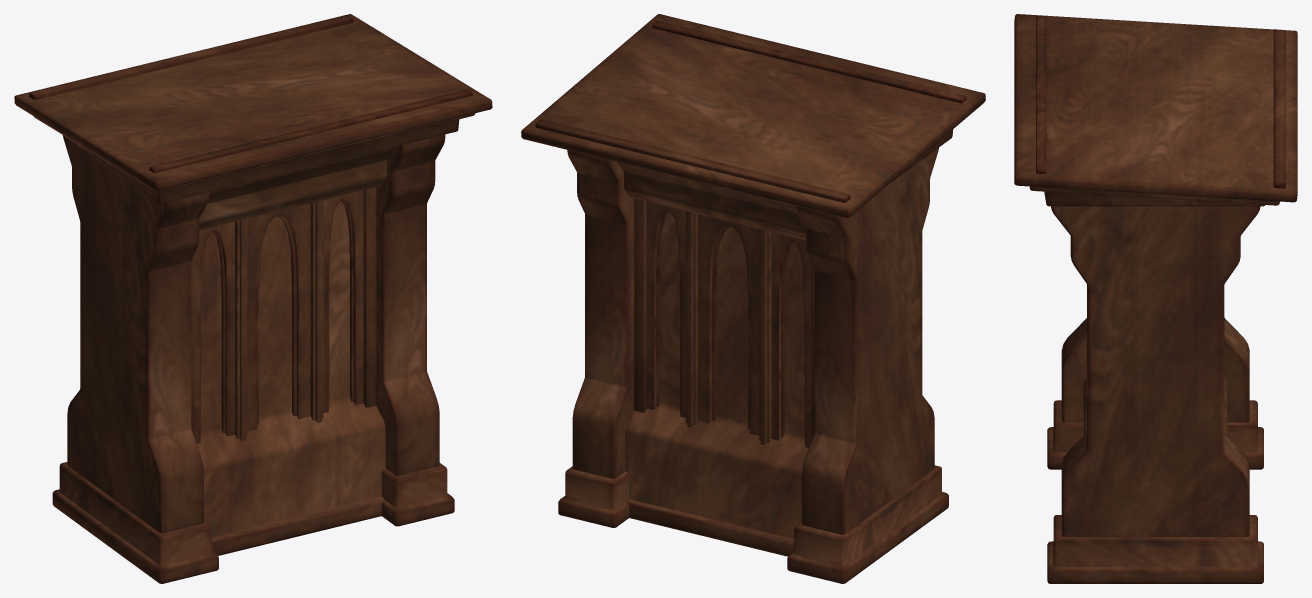
Rendered from Lectern_A.fbx.
3 renders of one model, left to right at view 1: azimuth 30°, elevation 25°; view 2: azimuth 150°, elevation 25°; view 3: azimuth 270°, elevation 25°, orthographic. The views are drawn at different scales.
Visible parts, largest first — view 1: Lectern_A; view 2: Lectern_A; view 3: Lectern_A.
Boxes of the visible parts, x1,y1,x2,y2 form: Lectern_A: (14,14,492,583); Lectern_A: (521,14,985,583); Lectern_A: (1014,14,1297,583).
Size of the model in its own units: 1 by 1.2 by 0.7334.
